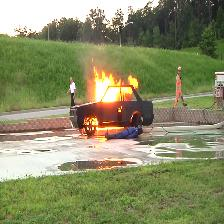fire: (87, 76, 141, 101)
